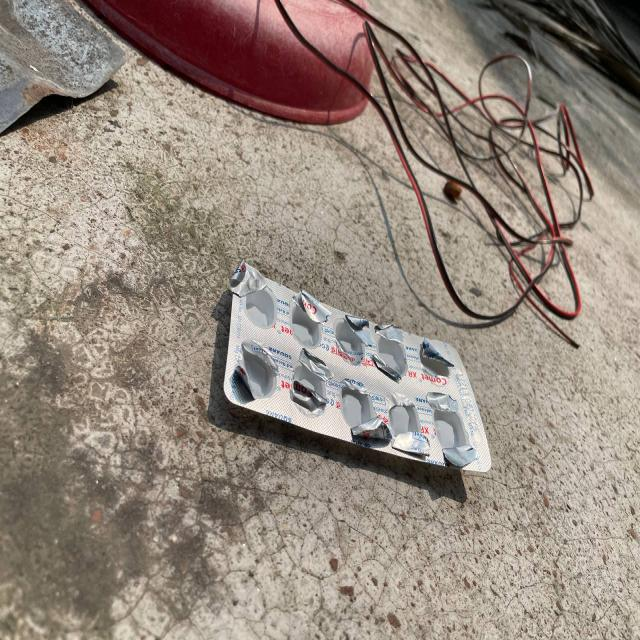Cable: (296, 1, 617, 318)
Medical Waste: (201, 252, 496, 529)
Metal: (0, 6, 149, 159)
Plastics: (139, 0, 383, 127)
